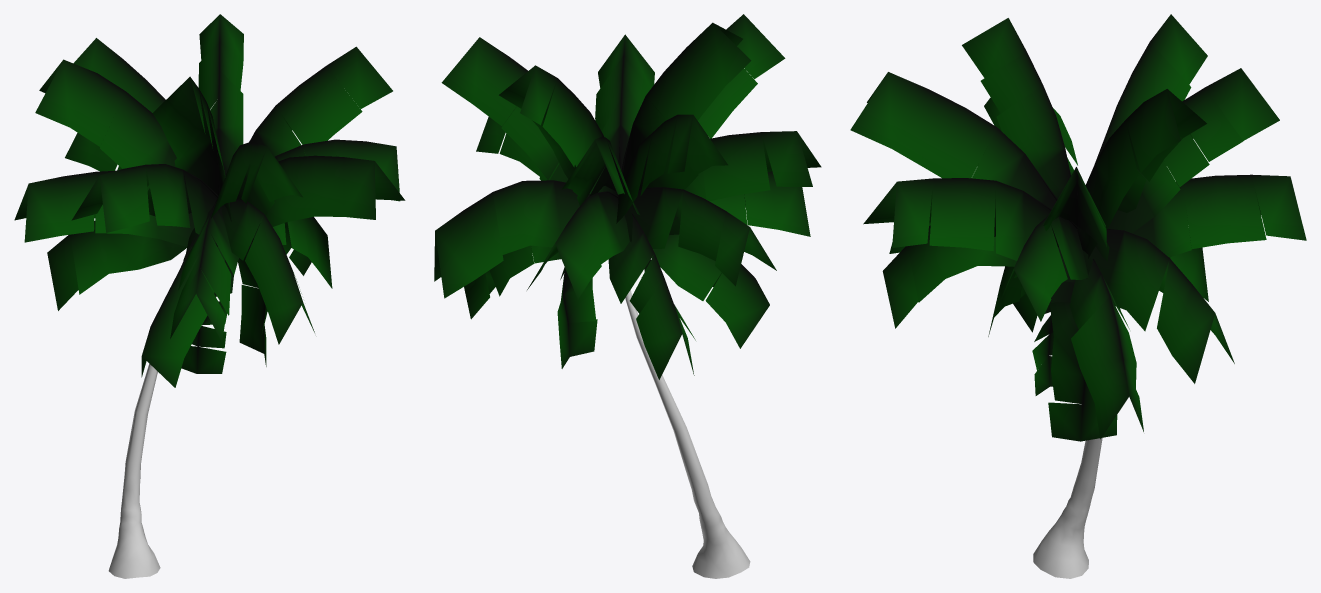
File: CoconutPalmTree01_afsTREE_xlprl10_xef99_xmm_xlod00.fbx
3 renders of one model, left to right at view 1: azimuth 30°, elevation 25°; view 2: azimuth 150°, elevation 25°; view 3: azimuth 270°, elevation 25°, orthographic. The views are drawn at different scales.
Parts seen in each view (by area): view 1: branch_xw08_xt08_xlp05_xp02, branch_xw09_xt05_xlp05_xp07, branch_xw08_xt08_xlp05_xp09, branch_xw08_xt09_xlp06_xp06, branch_xw06_xt04_xlp03, branch_xw08_xt08_xlp06_xp10, branch_xw05_xt06_xlp04_xp04, branch_xw10_xt10_xlp08, branch_xw09_xt09_xlp05_xp07, branch_xw06_xt05_xlp04, trunk_xw08_xt00_xlp00, branch_xw05_xt06_xlp06_xp04 (+7 smaller); view 2: branch_xw07_xt06_xlp06_xp10, branch_xw08_xt08_xlp06_xp10, branch_xw09_xt09_xlp05_xp07, branch_xw08_xt08_xlp05_xp09, branch_xw09_xt05_xlp05_xp07, branch_xw06_xt04_xlp03, branch_xw08_xt08_xlp05_xp02, branch_xw10_xt10_xlp08, trunk_xw08_xt00_xlp00, branch_xw05_xt06_xlp06_xp04, branch_xw06_xt07_xlp04, branch_xw08_xt09_xlp06_xp06 (+6 smaller); view 3: branch_xw07_xt06_xlp04_xp05, branch_xw08_xt09_xlp06_xp06, branch_xw06_xt07_xlp04, branch_xw07_xt06_xlp06_xp10, branch_xw09_xt09_xlp05_xp07, branch_xw08_xt08_xlp05_xp10.001, branch_xw10_xt10_xlp08, branch_xw07_xt06_xlp03_xp09, branch_xw05_xt07_xlp03_xp03, branch_xw08_xt08_xlp05_xp02, branch_xw05_xt06_xlp04_xp04, branch_xw08_xt08_xlp05 (+6 smaller).
Part boxes in pixels (left/top/right/bottom): branch_xw08_xt08_xlp05_xp02: left=35, top=59, right=176, bottom=189; branch_xw09_xt05_xlp05_xp07: left=249, top=46, right=392, bottom=248; branch_xw08_xt08_xlp05_xp09: left=71, top=164, right=218, bottom=242; branch_xw08_xt09_xlp06_xp06: left=215, top=155, right=405, bottom=246; branch_xw06_xt04_xlp03: left=47, top=221, right=186, bottom=310; branch_xw08_xt08_xlp06_xp10: left=14, top=170, right=194, bottom=246; branch_xw05_xt06_xlp04_xp04: left=221, top=199, right=314, bottom=344; branch_xw10_xt10_xlp08: left=198, top=14, right=243, bottom=176; branch_xw09_xt09_xlp05_xp07: left=152, top=76, right=231, bottom=221; branch_xw06_xt05_xlp04: left=170, top=198, right=238, bottom=341; trunk_xw08_xt00_xlp00: left=108, top=364, right=160, bottom=578; branch_xw05_xt06_xlp06_xp04: left=141, top=235, right=225, bottom=387; branch_xw07_xt06_xlp06_xp10: left=434, top=180, right=590, bottom=298; branch_xw08_xt08_xlp06_xp10: left=624, top=187, right=776, bottom=286; branch_xw09_xt09_xlp05_xp07: left=621, top=22, right=751, bottom=178; branch_xw08_xt08_xlp05_xp09: left=618, top=131, right=821, bottom=220; branch_xw09_xt05_xlp05_xp07: left=441, top=37, right=568, bottom=182; branch_xw06_xt04_xlp03: left=608, top=213, right=695, bottom=379; branch_xw08_xt08_xlp05_xp02: left=616, top=114, right=727, bottom=223; branch_xw10_xt10_xlp08: left=499, top=65, right=617, bottom=195; trunk_xw08_xt00_xlp00: left=625, top=290, right=750, bottom=578; branch_xw05_xt06_xlp06_xp04: left=653, top=234, right=769, bottom=348; branch_xw06_xt07_xlp04: left=527, top=191, right=629, bottom=299; branch_xw08_xt09_xlp06_xp06: left=595, top=34, right=654, bottom=170; branch_xw07_xt06_xlp04_xp05: left=850, top=72, right=1057, bottom=209; branch_xw08_xt09_xlp06_xp06: left=863, top=178, right=1075, bottom=282; branch_xw06_xt07_xlp04: left=1132, top=174, right=1306, bottom=257; branch_xw07_xt06_xlp06_xp10: left=1082, top=229, right=1234, bottom=383; branch_xw09_xt09_xlp05_xp07: left=962, top=18, right=1070, bottom=198; branch_xw08_xt08_xlp05_xp10.001: left=1107, top=68, right=1279, bottom=233; branch_xw10_xt10_xlp08: left=1077, top=89, right=1206, bottom=258; branch_xw07_xt06_xlp03_xp09: left=1069, top=258, right=1143, bottom=439; branch_xw05_xt07_xlp03_xp03: left=1048, top=229, right=1117, bottom=441; branch_xw08_xt08_xlp05_xp02: left=1095, top=14, right=1207, bottom=162; branch_xw05_xt06_xlp04_xp04: left=882, top=225, right=1016, bottom=328; branch_xw08_xt08_xlp05: left=995, top=215, right=1088, bottom=321.
Size of what is drawn, in the model's own units: 10.81 by 11.44 by 15.65.
